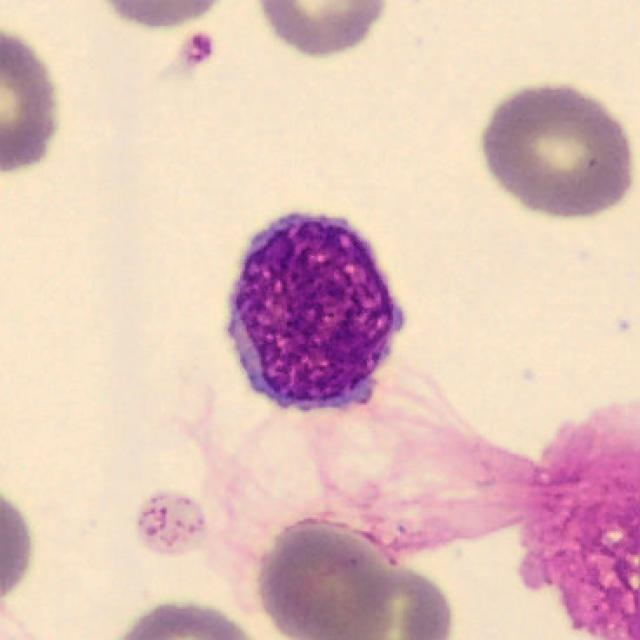Linfocito: (226, 214, 405, 410)
